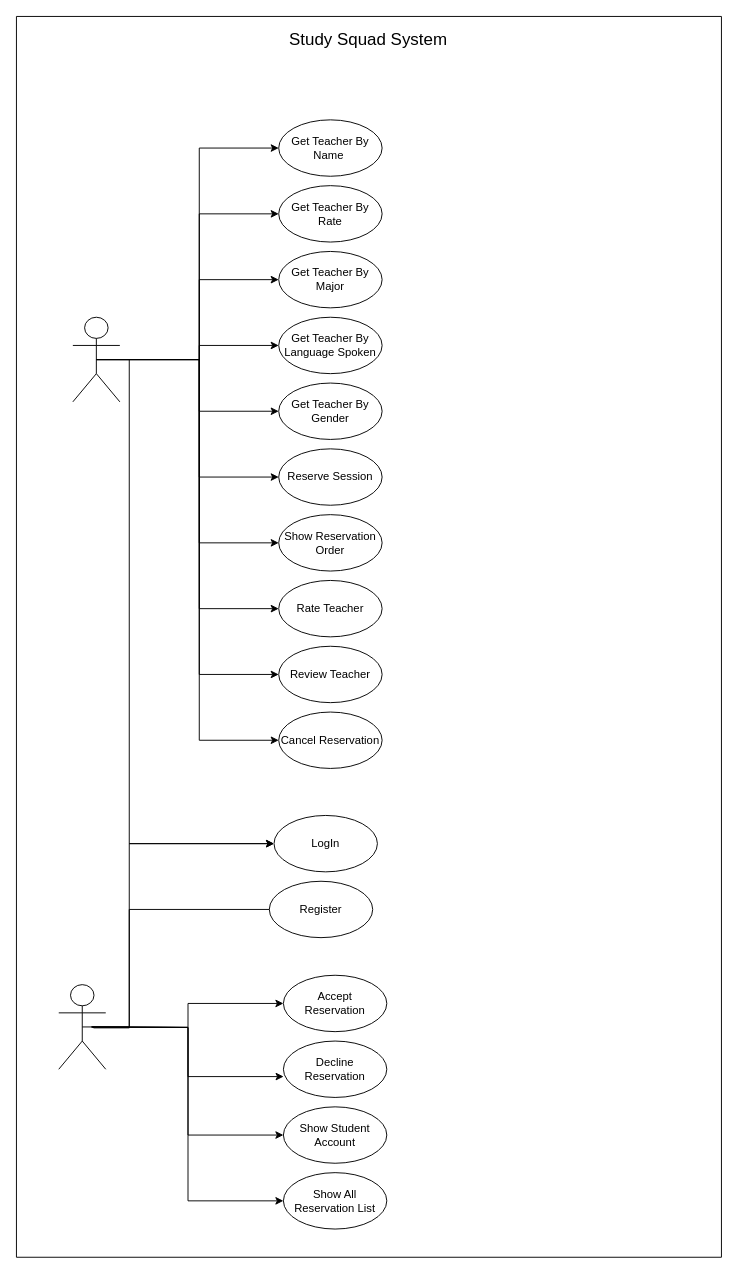
The diagram is 738 pixels wide and 1274 high, and some of its shapes have lost their labels. The shapes that lost their labels are listed below. From the top down, each one's centre as x and y in pixels, then its label:
At point 96,359: "Student".
At point 82,1026: "Teacher".
